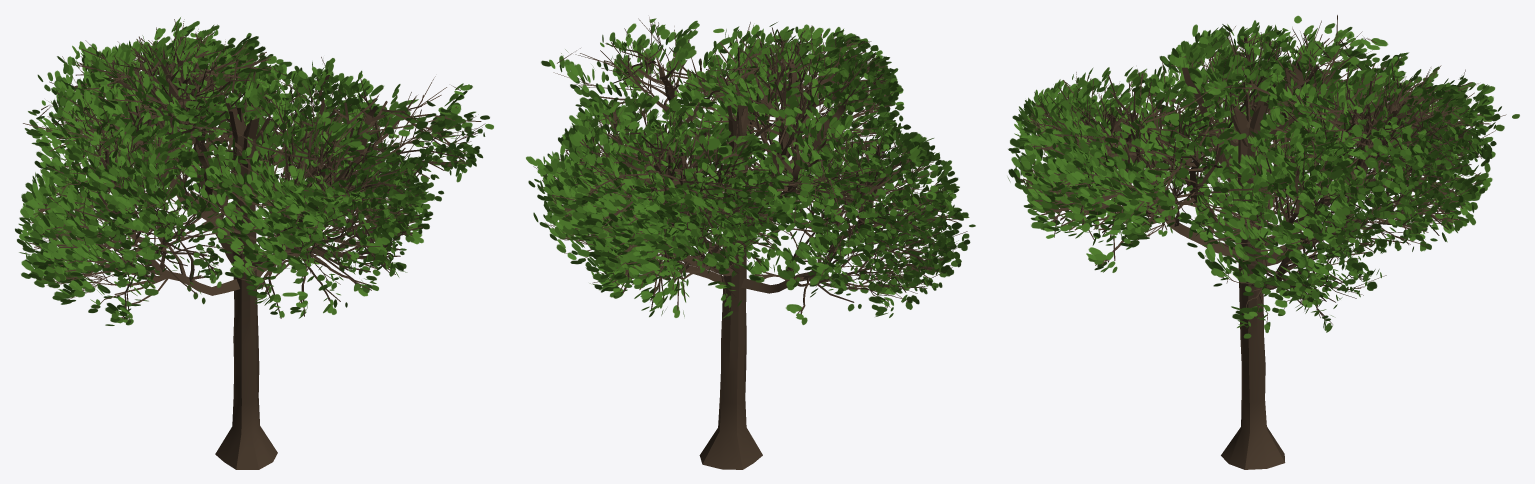
3 renders of one model, left to right at view 1: azimuth 30°, elevation 25°; view 2: azimuth 150°, elevation 25°; view 3: azimuth 270°, elevation 25°, orthographic.
Visible parts, largest first — view 1: oak 01.001_trunk_Mat.001_0.137; view 2: oak 01.001_trunk_Mat.001_0.137; view 3: oak 01.001_trunk_Mat.001_0.137.
Part boxes in pixels (left/top/right/bottom): oak 01.001_trunk_Mat.001_0.137: left=15, top=17, right=493, bottom=469; oak 01.001_trunk_Mat.001_0.137: left=526, top=17, right=975, bottom=469; oak 01.001_trunk_Mat.001_0.137: left=1007, top=15, right=1519, bottom=469.
Size of the model in its own units: 6.22 by 4.96 by 6.24.
2 materials, 1 textured.
